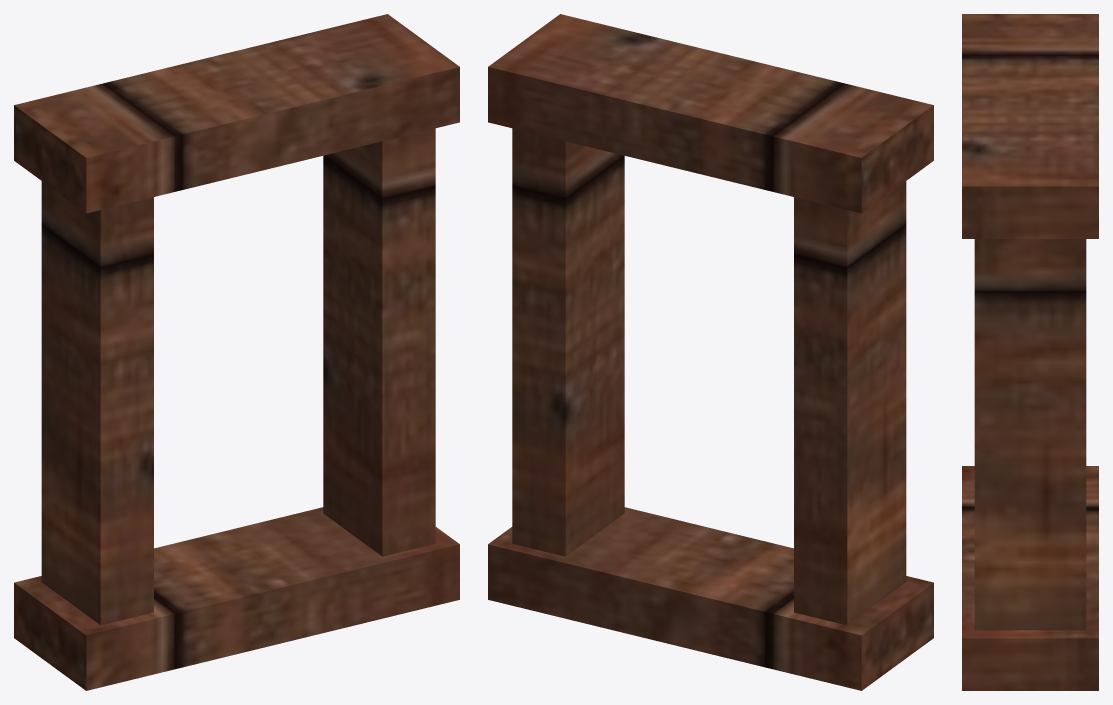
Rendered from window_frame.fbx.
3 views of the same model, side by side, from view 1: azimuth 30°, elevation 25°; view 2: azimuth 150°, elevation 25°; view 3: azimuth 270°, elevation 25° (orthographic). The views are drawn at different scales.
Parts seen in each view (by area): view 1: polySurface384; view 2: polySurface384; view 3: polySurface384.
Part boxes in pixels (left/top/right/bottom): polySurface384: left=14, top=14, right=459, bottom=690; polySurface384: left=488, top=14, right=933, bottom=690; polySurface384: left=962, top=14, right=1098, bottom=690.
Bounding box in the file's own units: 76.89 × 105 × 25.75.
